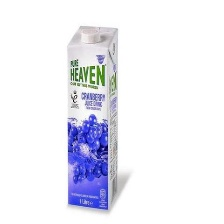carton: (58, 18, 126, 215)
